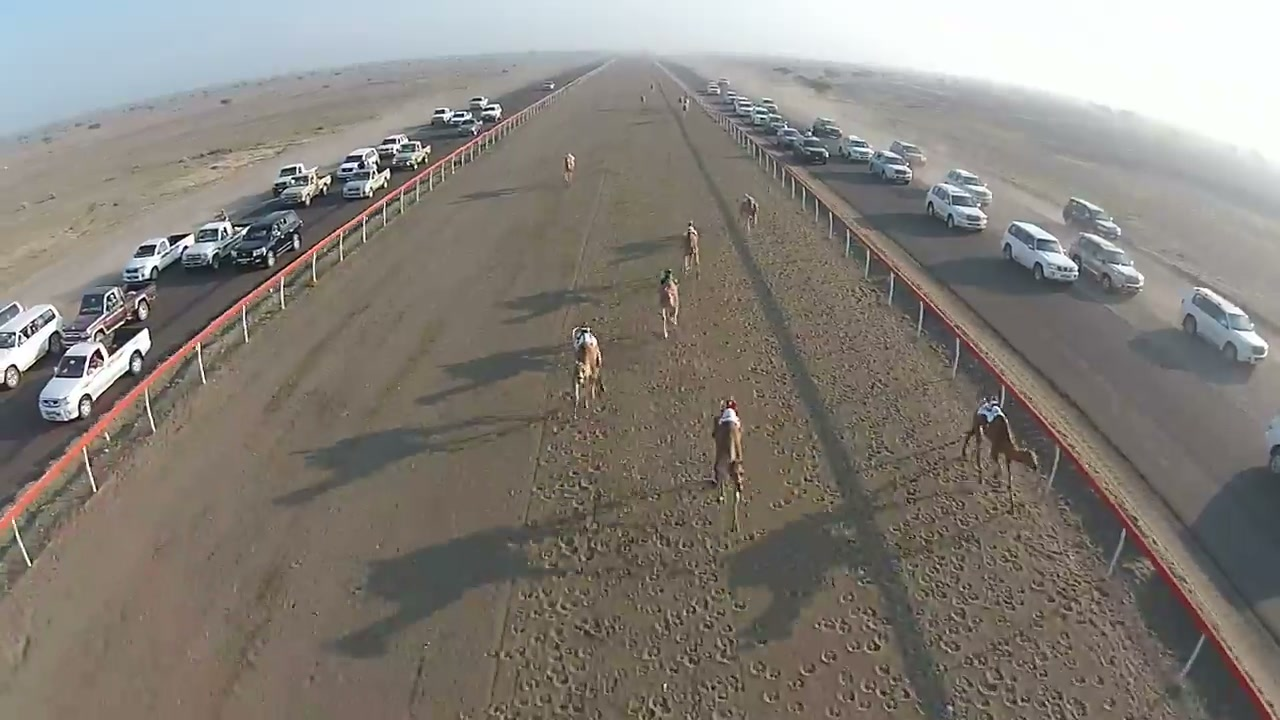animal_footprint: (962, 488, 1148, 695), (631, 491, 784, 713), (515, 407, 615, 695), (817, 555, 942, 719)
